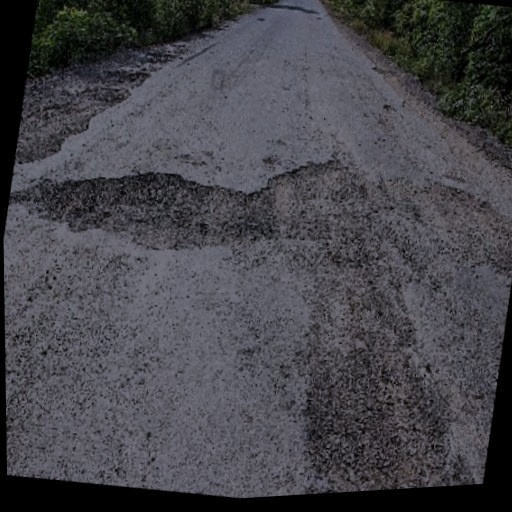pothole: (21, 143, 251, 265), (248, 143, 352, 260)
